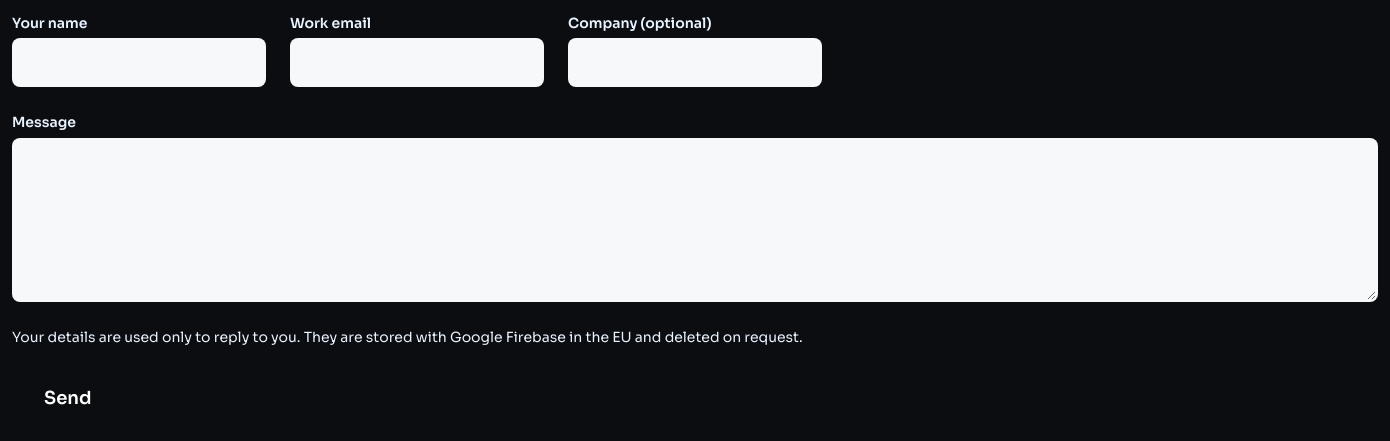
it: the contact form › says so when sending fails, keeping what was written
The width and height of the screenshot is (1390, 441).
In the field labelled "Your name": x=139, y=63 [12,38,266,87], type "Ana"
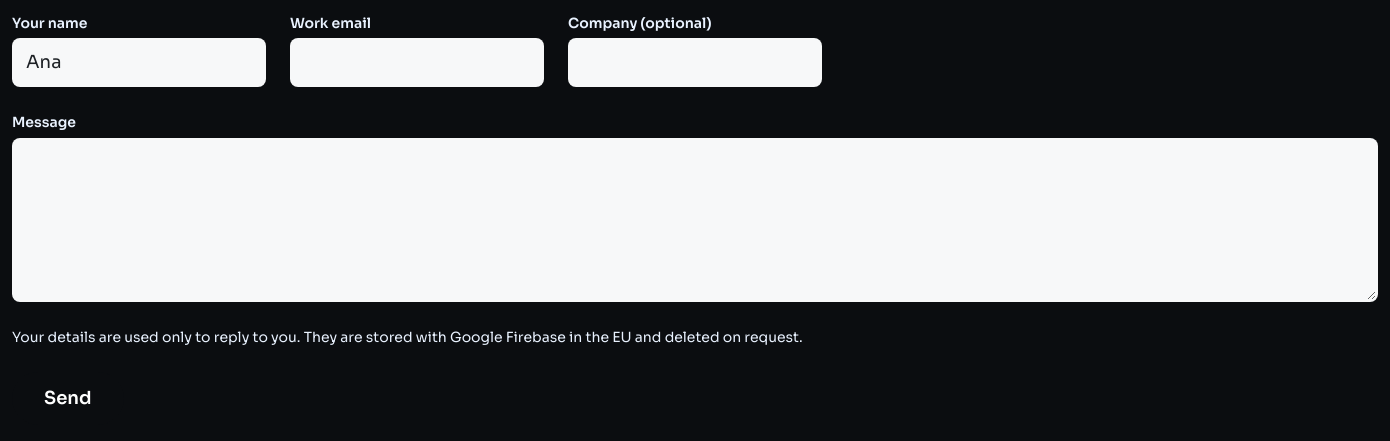
In the field labelled "Work email": x=417, y=63 [290,38,544,87], type "ana@example.com"
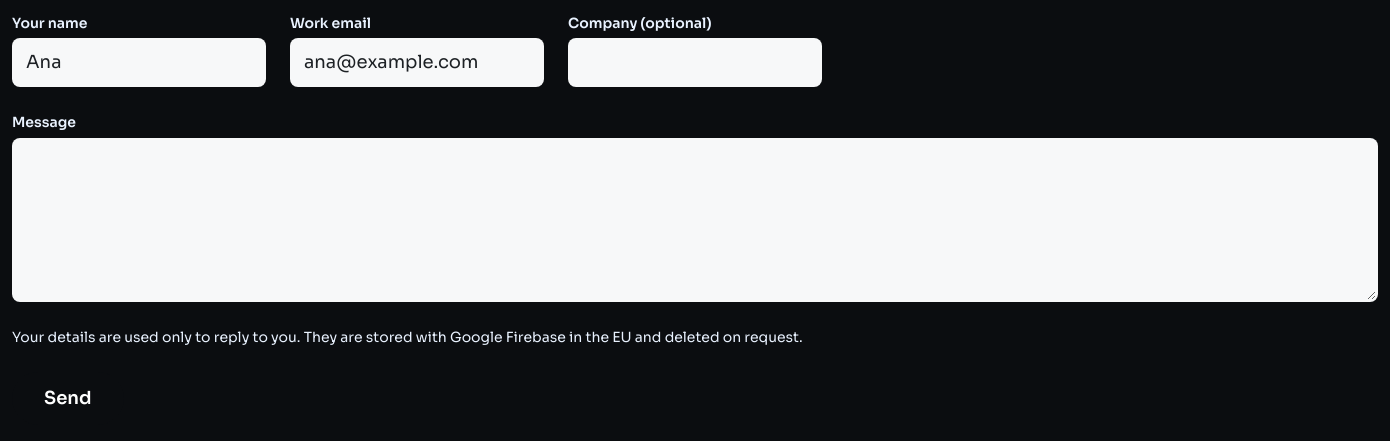
In the text box labelled "Message": x=695, y=220 [12,138,1378,302], type "We plan our next PI in March."
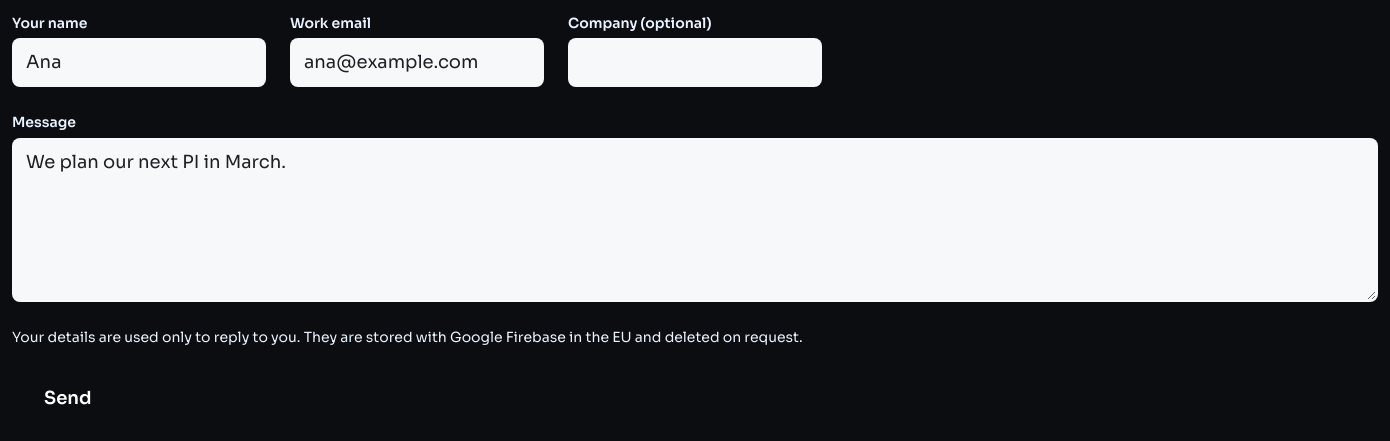
Click the button "Send": x=68, y=398 [12,372,124,425]
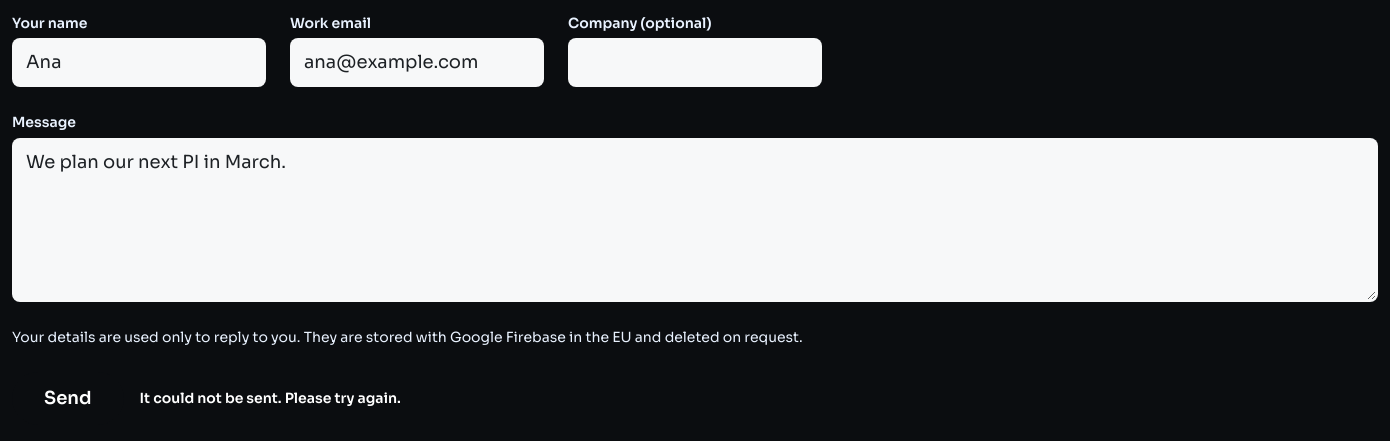
Check: the message reads "It could not be sent. Please try again.", box [140,389,401,407]
